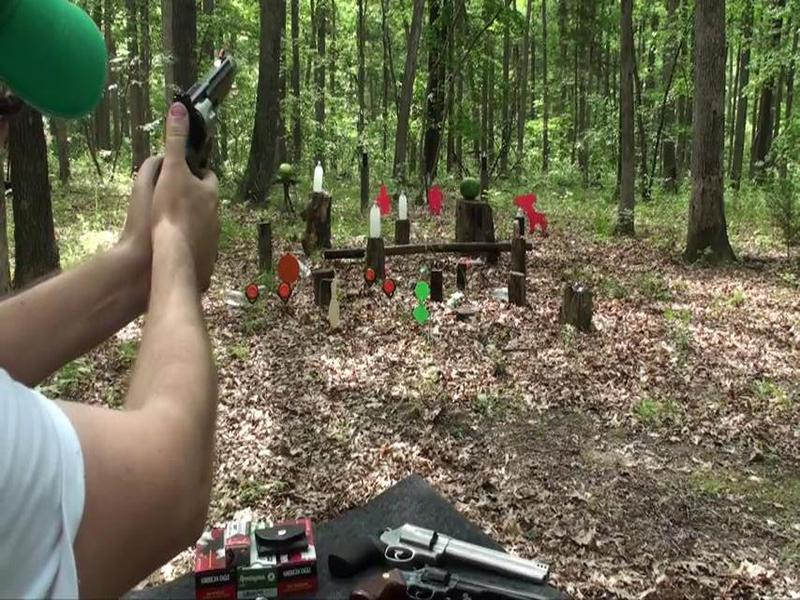Revolver: (165, 47, 247, 194)
